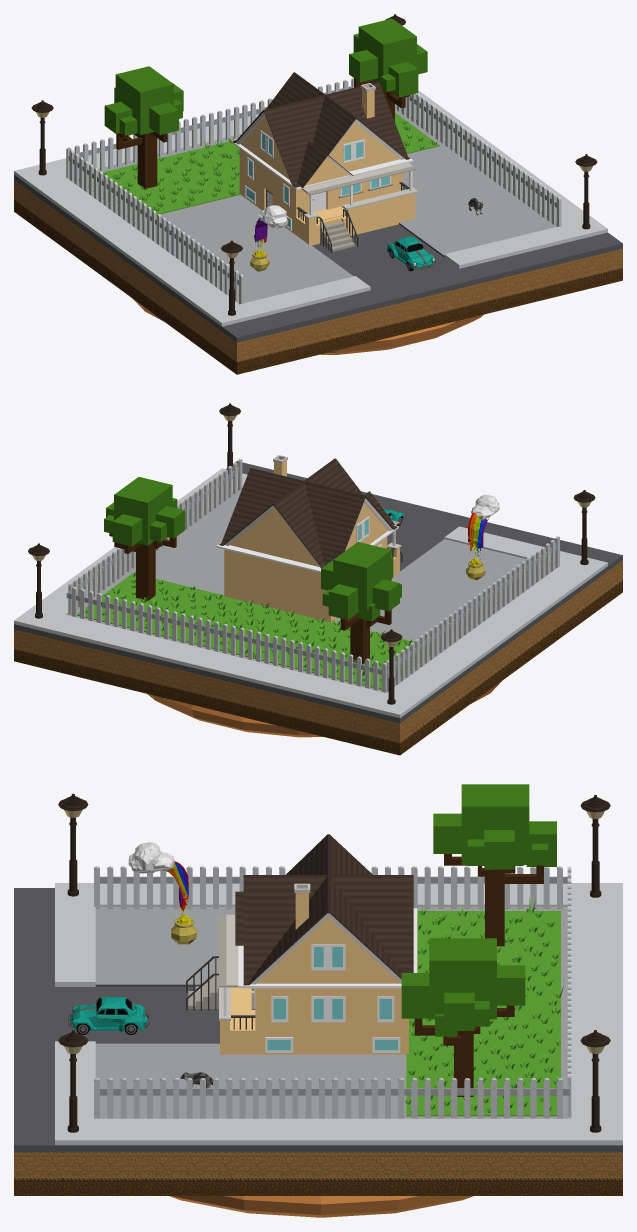
3 views of the same model, one above another, from view 1: azimuth 30°, elevation 25°; view 2: azimuth 150°, elevation 25°; view 3: azimuth 270°, elevation 25° (orthographic). The views are drawn at different scales.
Parts seen in each view (by area): view 1: Cube.004, Cube.235, UNDERGROUND_PIZZA, OBJRANDOM_RAINBOW, VEHICLES_VOLKSWAGEN; view 2: Cube.004, Cube.235, UNDERGROUND_PIZZA, OBJRANDOM_RAINBOW; view 3: Cube.004, Cube.235, UNDERGROUND_PIZZA, VEHICLES_VOLKSWAGEN, OBJRANDOM_RAINBOW.
Part boxes in pixels (x1,y1,x2,y2): Cube.004: (14,14,622,374); Cube.235: (231,72,418,252); UNDERGROUND_PIZZA: (132,298,483,354); OBJRANDOM_RAINBOW: (250,205,288,271); VEHICLES_VOLKSWAGEN: (387,236,435,271); Cube.004: (14,403,622,755); Cube.235: (216,455,402,622); UNDERGROUND_PIZZA: (147,681,501,737); OBJRANDOM_RAINBOW: (466,494,499,580); Cube.004: (14,784,622,1195); Cube.235: (186,834,417,1054); UNDERGROUND_PIZZA: (169,1196,473,1217); VEHICLES_VOLKSWAGEN: (68,997,150,1034); OBJRANDOM_RAINBOW: (128,842,196,944).
Bounding box in the file's own units: 4000 × 1812 × 4000.
Materials: 42 (3 with a texture image).
